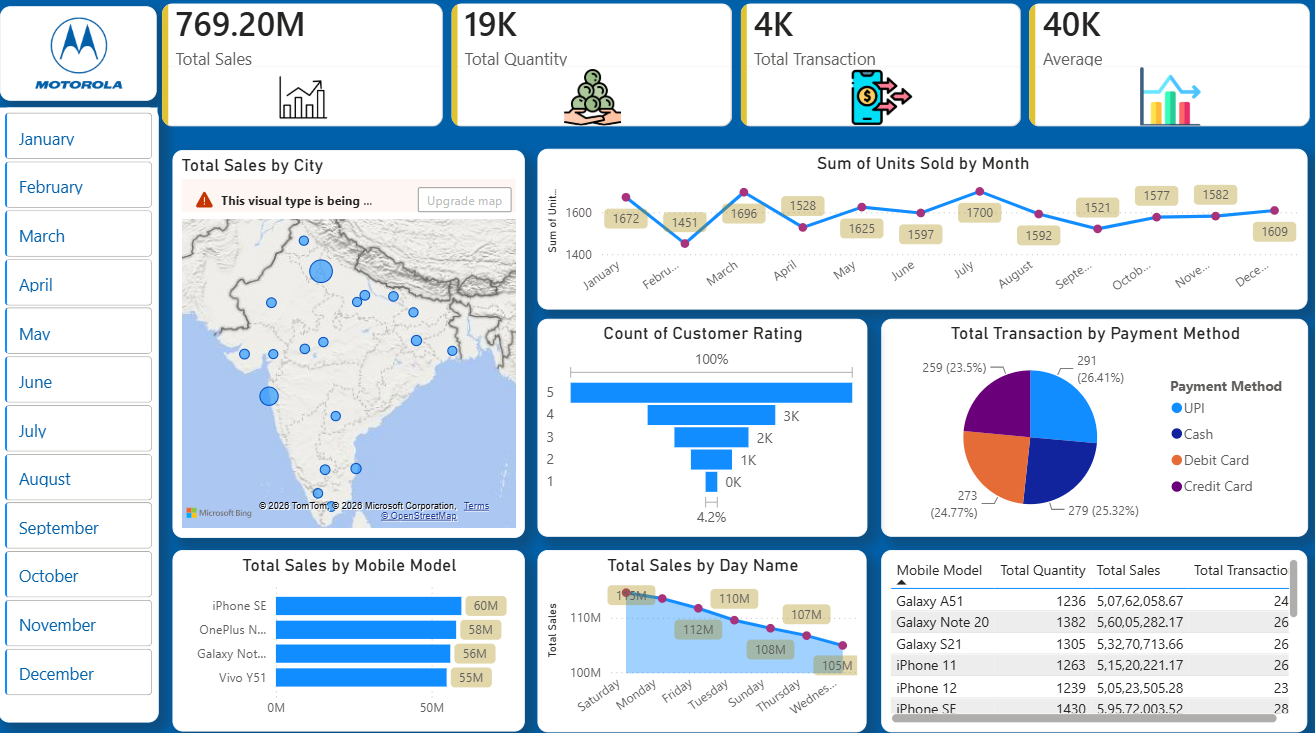

The dashboard page shown, as its layout file describes it:
{"tool":"powerbi","page":{"name":"Mobile Sales DASHBOARD","canvas":[1280,720],"ordinal":0},"visuals":[{"type":"shape","box":[5,10.5,151,91],"z":0},{"type":"shape","box":[3.3,108.3,154.2,593.3],"z":1000},{"type":"advancedSlicerVisual","fields":{"Values":["Sheet1.DATE.Variation.Date Hierarchy.Month"]},"box":[4.8,108.6,152,583.9],"z":2000},{"type":"image","box":[8,14,144.5,83.5],"z":3000},{"type":"cardVisual","fields":{"Data":["Sheet1.Total Sales","sales data.Total Quantity","sales data.Total Transaction","sales data.Average"]},"box":[152.9,0,1127.1,135.7],"z":4000},{"type":"map","fields":{"Category":["sales data.City"],"Size":["sales data.Total Sales"]},"box":[171,149,340,374],"z":5000},{"type":"lineChart","fields":{"Y":["Sum(sales data.Units Sold)"],"Category":["sales data.DATE.Variation.Date Hierarchy.Month"]},"box":[523.3,148.3,743.3,155],"z":6000},{"type":"barChart","fields":{"Category":["sales data.Mobile Model"],"Y":["sales data.Total Sales"]},"box":[171,536,340,175],"z":7000},{"type":"pieChart","fields":{"Category":["sales data.Payment Method"],"Y":["sales data.Total Transaction"]},"box":[855,313,412,210],"z":8000},{"type":"funnel","title":"Count of Customer Rating ","fields":{"Y":["Sum(sales data.Customer Ratings)"],"Category":["sales data.Customer Ratings"]},"box":[523,313,318,210],"z":9000},{"type":"areaChart","fields":{"Category":["sales data.Day Name"],"Y":["sales data.Total Sales"]},"box":[523.1,536.2,317.7,176.2],"z":10000},{"type":"tableEx","fields":{"Values":["sales data.Mobile Model","sales data.Total Quantity","sales data.Total Sales","sales data.Total Transaction"]},"box":[855.4,536.2,411.5,176.2],"z":11000}]}

Visuals, with their boxes in screenshot pixels (x1, y1, x2, y2), scaled from the page's 1280x720 canvas onto the 1315x733 screenshot:
shape: (5, 11, 160, 103)
shape: (3, 110, 162, 714)
advancedSlicerVisual - Sheet1.DATE.Variation.Date Hierarchy.Month: (5, 111, 161, 705)
image: (8, 14, 157, 99)
cardVisual - Sheet1.Total Sales x sales data.Total Quantity: (157, 0, 1314, 138)
map - sales data.City x sales data.Total Sales: (176, 152, 525, 532)
lineChart - Sum(sales data.Units Sold) x sales data.DATE.Variation.Date Hierarchy.Month: (538, 151, 1301, 309)
barChart - sales data.Mobile Model x sales data.Total Sales: (176, 546, 525, 724)
pieChart - sales data.Payment Method x sales data.Total Transaction: (878, 319, 1302, 532)
"Count of Customer Rating " funnel: (537, 319, 864, 532)
areaChart - sales data.Day Name x sales data.Total Sales: (537, 546, 864, 725)
tableEx - sales data.Mobile Model x sales data.Total Quantity: (879, 546, 1302, 725)
